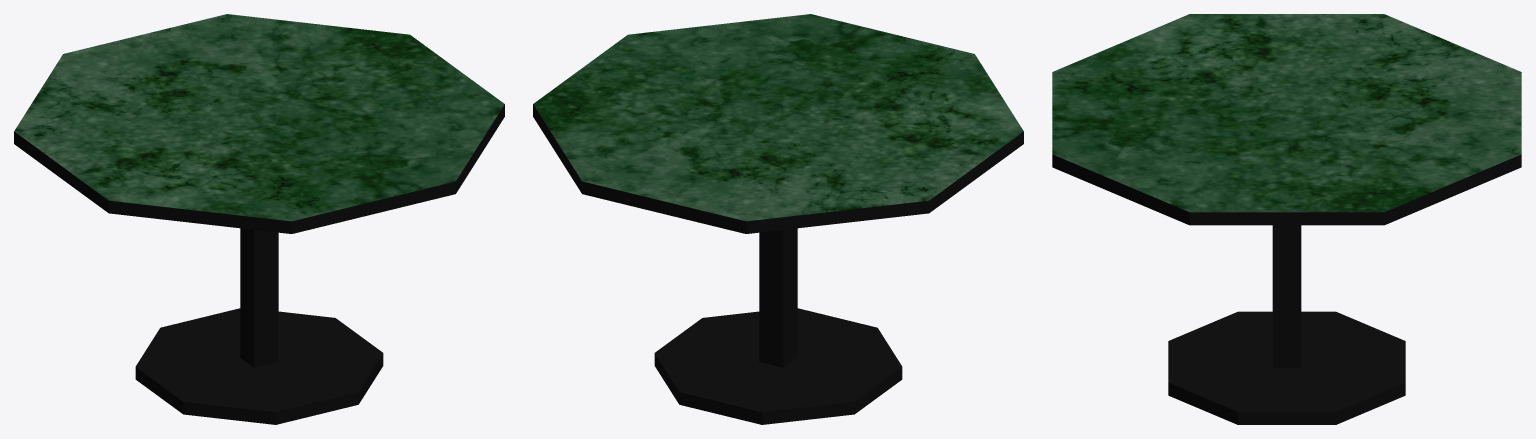
Rendered from Table.fbx.
3 renders of one model, left to right at view 1: azimuth 30°, elevation 25°; view 2: azimuth 150°, elevation 25°; view 3: azimuth 270°, elevation 25°, orthographic. The views are drawn at different scales.
Parts seen in each view (by area): view 1: Table.002; view 2: Table.002; view 3: Table.002.
Boxes of the visible parts, x1,y1,x2,y2 form: Table.002: (14, 14, 504, 424); Table.002: (533, 14, 1023, 424); Table.002: (1052, 14, 1521, 424).
Size of the model in its own units: 3.25 by 2 by 3.25.
